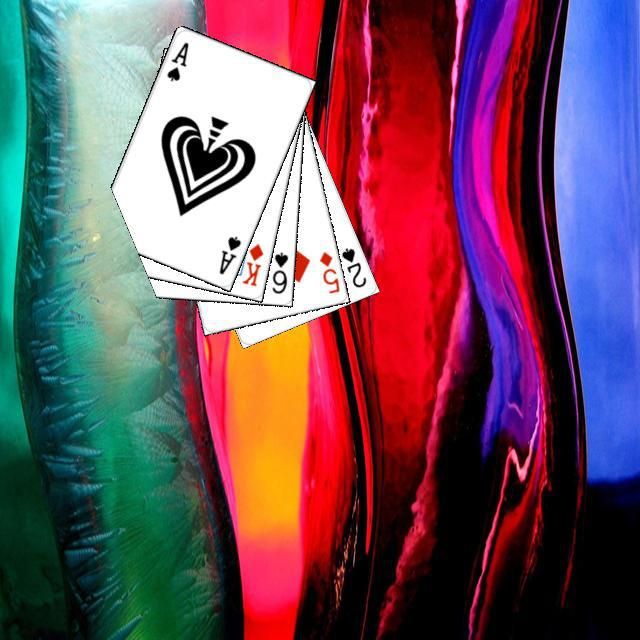2s: (336, 243, 368, 289)
5d: (315, 247, 341, 295)
6s: (267, 247, 289, 295)
As: (214, 231, 243, 276), (162, 37, 190, 83)
Kd: (237, 239, 265, 288)
